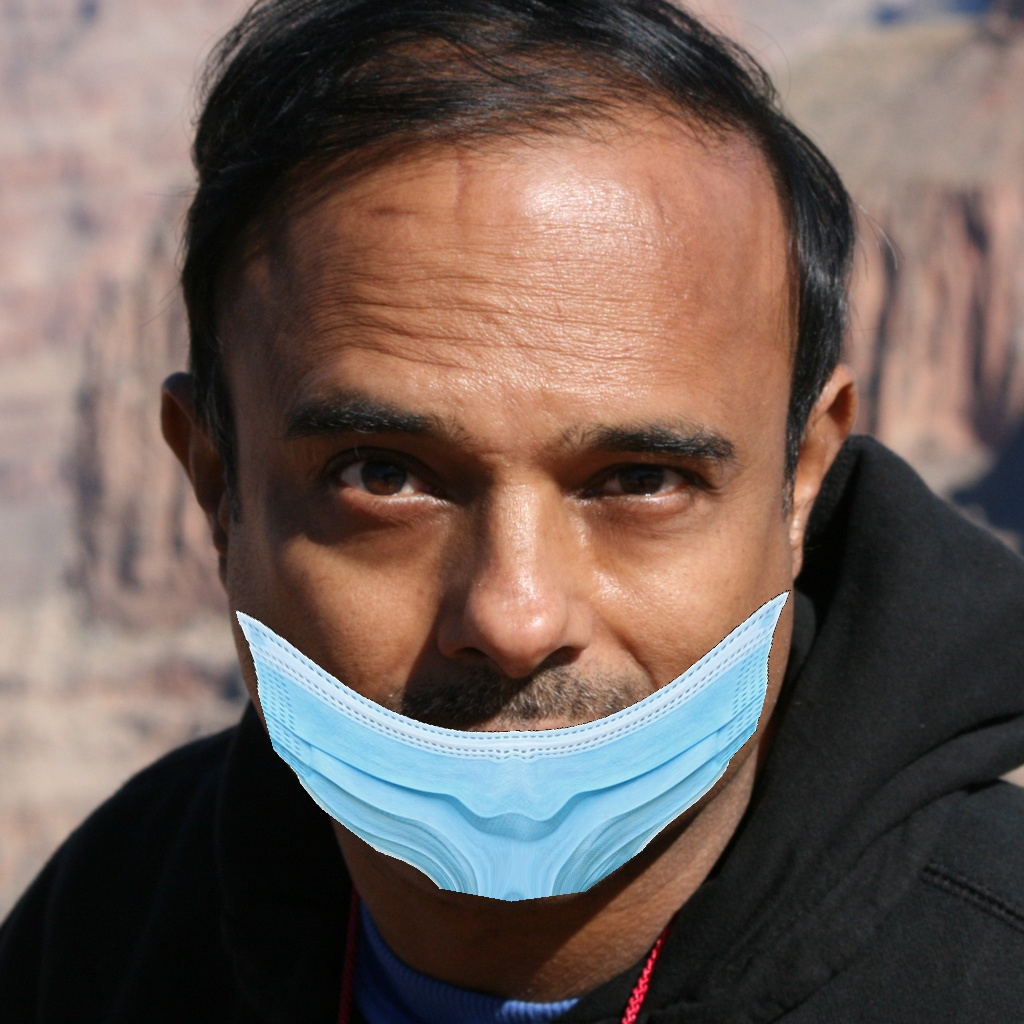mascarilla_mal_puesta: (167, 268, 834, 948)
